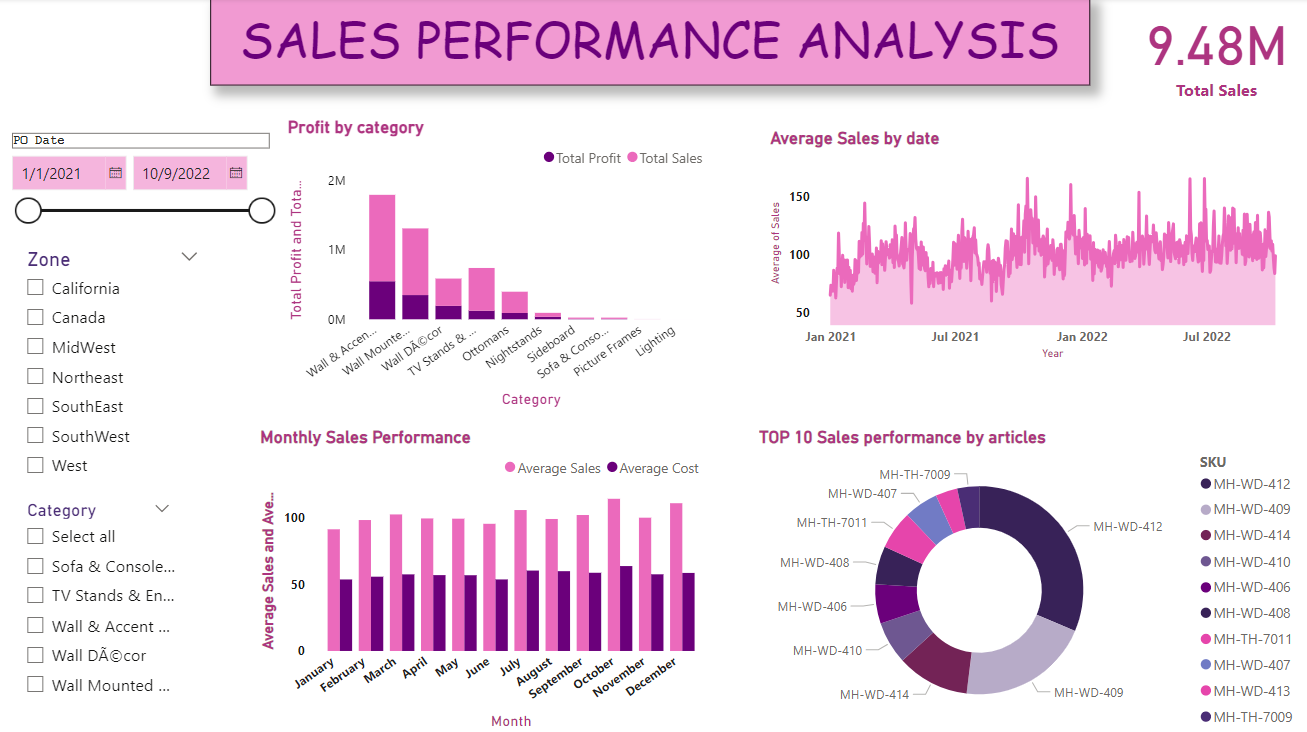

This screenshot's page, from the dashboard's own definition file:
{"tool":"powerbi","page":{"name":"Page 1","canvas":[1280,720],"ordinal":0},"visuals":[{"type":"textbox","box":[207,0,860.4,85.7],"z":0},{"type":"slicer","fields":{"Values":["Sheet1.PO Date"]},"box":[0,127.5,278,101.7],"z":2000},{"type":"slicer","fields":{"Values":["Sheet1.Zone"]},"box":[14.9,240.1,192.6,238.7],"z":3000},{"type":"slicer","fields":{"Values":["Sheet1.Category"]},"box":[15,485,165,235],"z":5000},{"type":"card","fields":{"Values":["Sum(Sheet1.Sales)"]},"box":[1101.3,0,179,101.7],"z":6000},{"type":"lineStackedColumnComboChart","title":"Profit by category","fields":{"Y":["Sheet1.profit","Sum(Sheet1.Sales)"],"Category":["Sheet1.Category"]},"box":[278,116.6,420.4,288.9],"z":7000},{"type":"lineChart","title":"Average Sales by date","fields":{"Y":["Avg(Sheet1.Sales)"],"Category":["Sheet1.PO Date.Variation.Date Hierarchy.Year","Sheet1.PO Date.Variation.Date Hierarchy.Quarter","Sheet1.PO Date.Variation.Date Hierarchy.Month","Sheet1.PO Date.Variation.Date Hierarchy.Day"]},"box":[750,127.5,530.3,231.9],"z":8000},{"type":"clusteredColumnChart","title":"Monthly Sales Performance","fields":{"Category":["Sheet1.PO Date.Variation.Date Hierarchy.Month"],"Y":["Avg(Sheet1.Sales)","Avg(Sheet1.Cost of Goods Sold)"]},"box":[250.9,419.1,447.6,301.1],"z":9000},{"type":"donutChart","title":"TOP 10 Sales performance by articles","fields":{"Category":["Sheet1.SKU"],"Y":["Sum(Sheet1.Sales)"]},"box":[739.1,419.1,541.1,301.1],"z":10000}]}

Visuals, with their boxes in screenshot pixels (x1, y1, x2, y2), scaled from the page's 1280x720 canvas onto the 1307x732 screenshot:
textbox: 211/0/1090/87
slicer - Sheet1.PO Date: 0/130/284/233
slicer - Sheet1.Zone: 15/244/212/487
slicer - Sheet1.Category: 15/493/184/731
card - Sum(Sheet1.Sales): 1125/0/1306/103
"Profit by category" lineStackedColumnComboChart: 284/119/713/412
"Average Sales by date" lineChart: 766/130/1306/365
"Monthly Sales Performance" clusteredColumnChart: 256/426/713/731
"TOP 10 Sales performance by articles" donutChart: 755/426/1306/731
